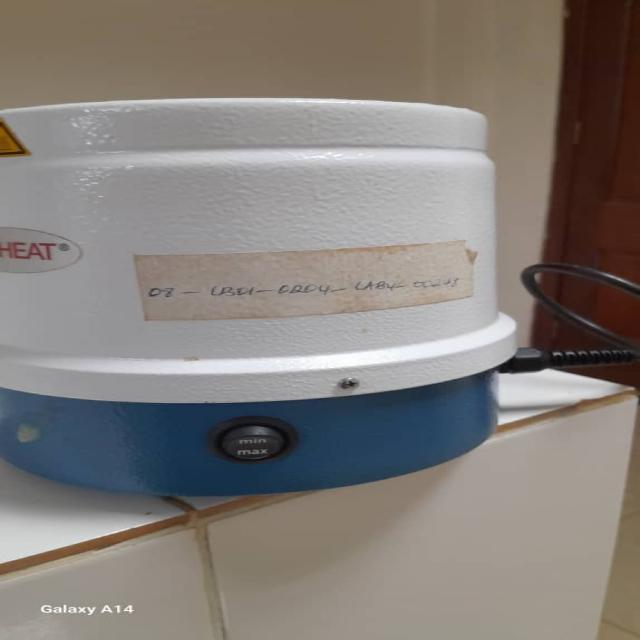Heating Source: (9, 96, 540, 503)
